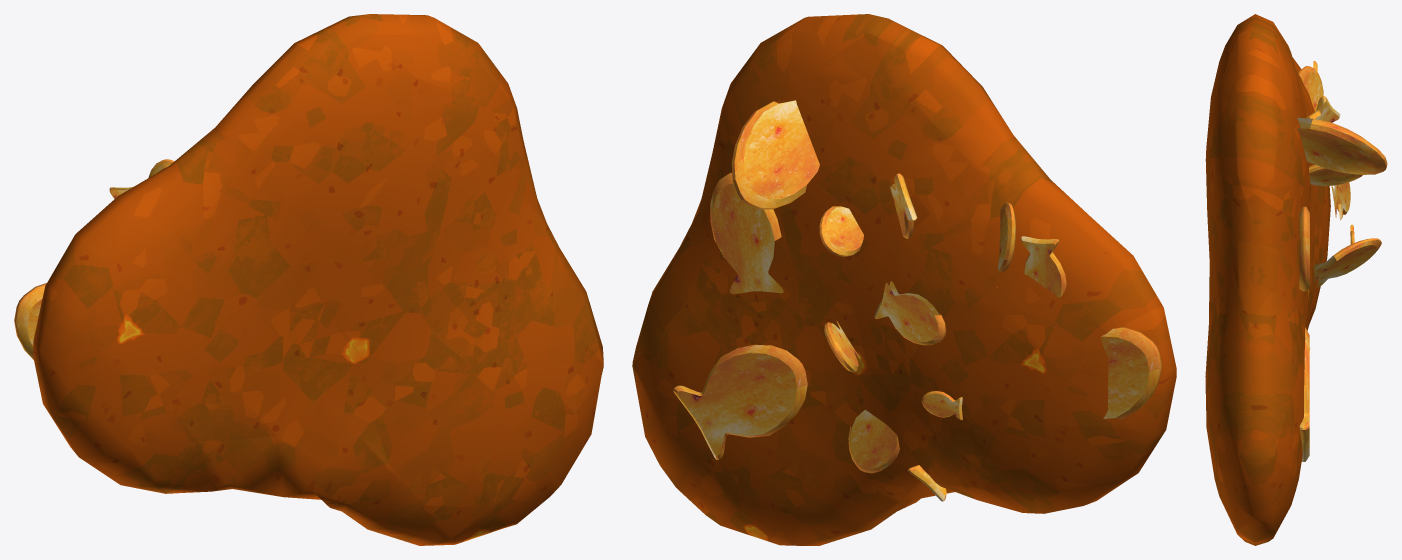
File: gf_int_fish_2.glb
3 views of the same model, side by side, from view 1: azimuth 30°, elevation 25°; view 2: azimuth 150°, elevation 25°; view 3: azimuth 270°, elevation 25° (orthographic). The views are drawn at different scales.
Visible parts, largest first — view 1: Mball.009, fish in wall 1.002; view 2: Mball.009, fish in wall 1.002; view 3: Mball.009, fish in wall 1.002.
Boxes of the visible parts, left/top/right/bottom form: Mball.009: left=33, top=14, right=603, bottom=545; fish in wall 1.002: left=14, top=159, right=174, bottom=359; Mball.009: left=632, top=14, right=1176, bottom=545; fish in wall 1.002: left=673, top=100, right=1162, bottom=501; Mball.009: left=1205, top=14, right=1330, bottom=545; fish in wall 1.002: left=1297, top=61, right=1387, bottom=461.
Size of the model in its own units: 4.03 by 3.82 by 1.36.
Materials: 2 (2 with a texture image).
